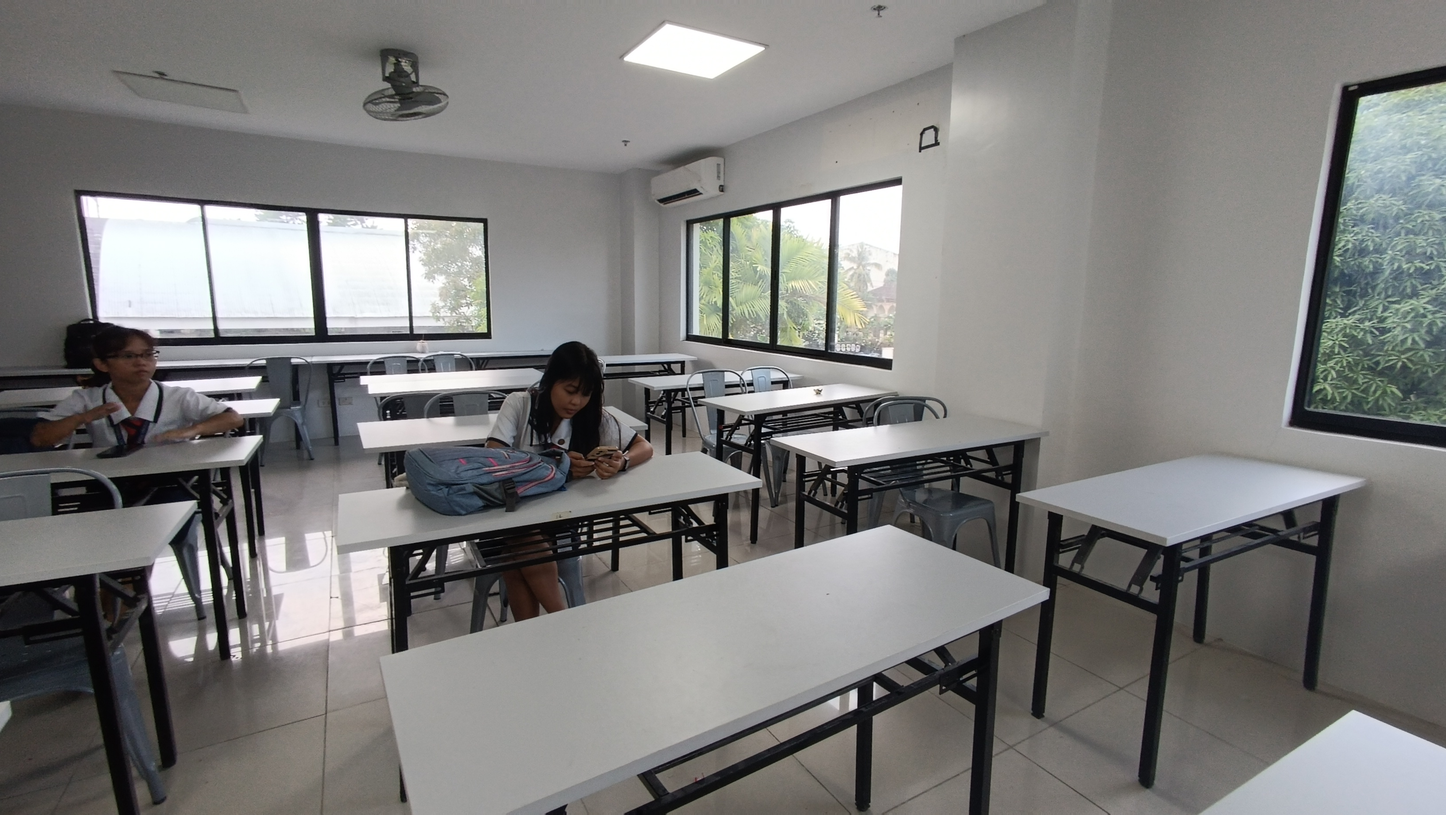with-student: (335, 337, 762, 565), (1, 323, 265, 507)
